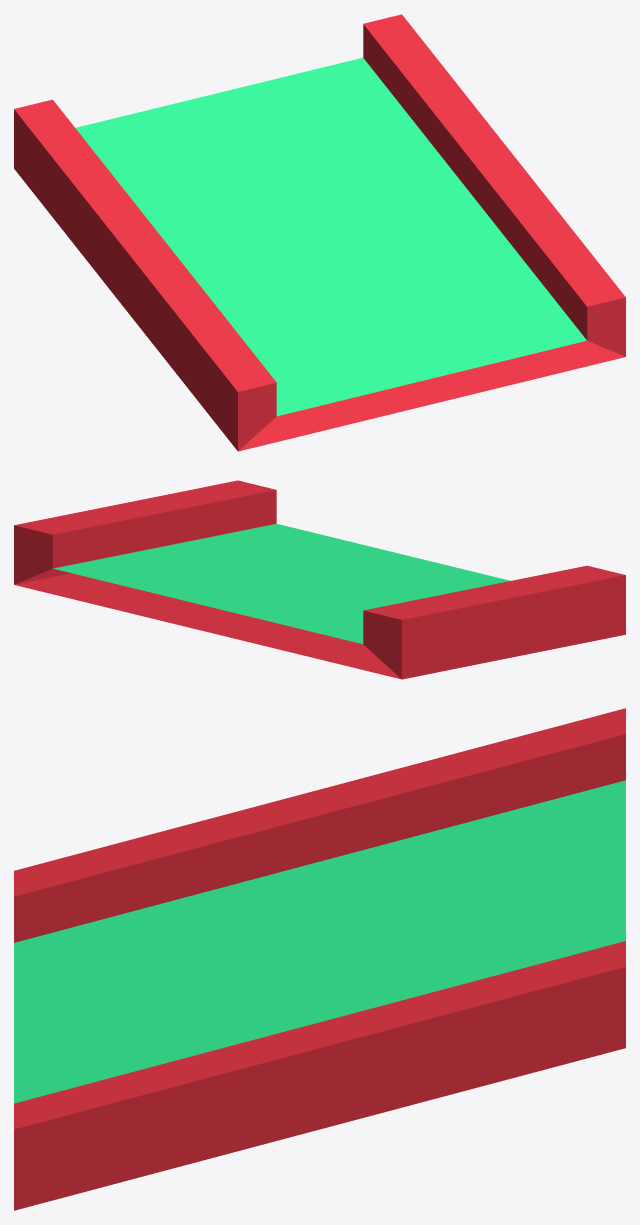
Rendered from rampB.fbx.
3 renders of one model, top to bottom at view 1: azimuth 30°, elevation 25°; view 2: azimuth 150°, elevation 25°; view 3: azimuth 270°, elevation 25°, orthographic. The views are drawn at different scales.
Parts seen in each view (by area): view 1: rampB; view 2: rampB; view 3: rampB.
Part boxes in pixels (bbox=[...]): rampB: bbox=[14, 14, 625, 451]; rampB: bbox=[14, 480, 625, 679]; rampB: bbox=[14, 708, 625, 1210].
Size of the model in its own units: 99.99 by 99.99 by 44.
